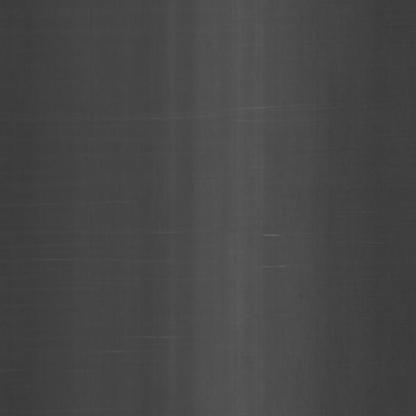waist_folding: (157, 48, 282, 282)
